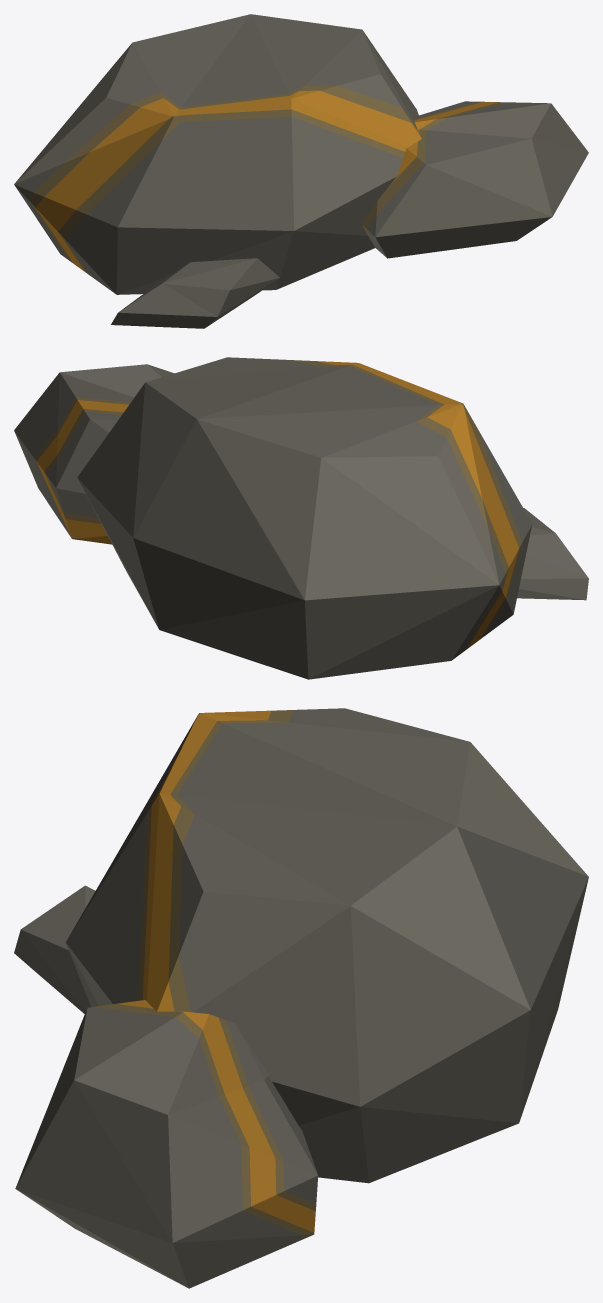
The model's file is ore_gold_v03_lod0.glb.
3 renders of one model, top to bottom at view 1: azimuth 30°, elevation 25°; view 2: azimuth 150°, elevation 25°; view 3: azimuth 270°, elevation 25°, orthographic. The views are drawn at different scales.
Visible parts, largest first — view 1: ore_gold_v03_lod0; view 2: ore_gold_v03_lod0; view 3: ore_gold_v03_lod0.
Boxes of the visible parts, x1,y1,x2,y2 form: ore_gold_v03_lod0: [14, 14, 588, 328]; ore_gold_v03_lod0: [14, 357, 588, 679]; ore_gold_v03_lod0: [14, 708, 588, 1288].
Size of the model in its own units: 2.8 by 0.9404 by 1.72.
